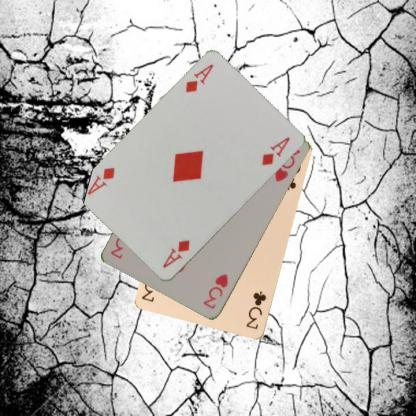3c: (244, 289, 268, 331)
3h: (201, 271, 230, 311)
Ad: (160, 237, 192, 270), (183, 61, 215, 94)
